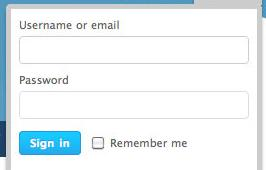button: (18, 130, 82, 156)
checkbox: (92, 136, 106, 150)
checkbox_with_label: (90, 134, 187, 151)
field: (18, 89, 250, 120), (19, 34, 250, 65)
field_with_label: (16, 75, 252, 121), (17, 19, 252, 65)
